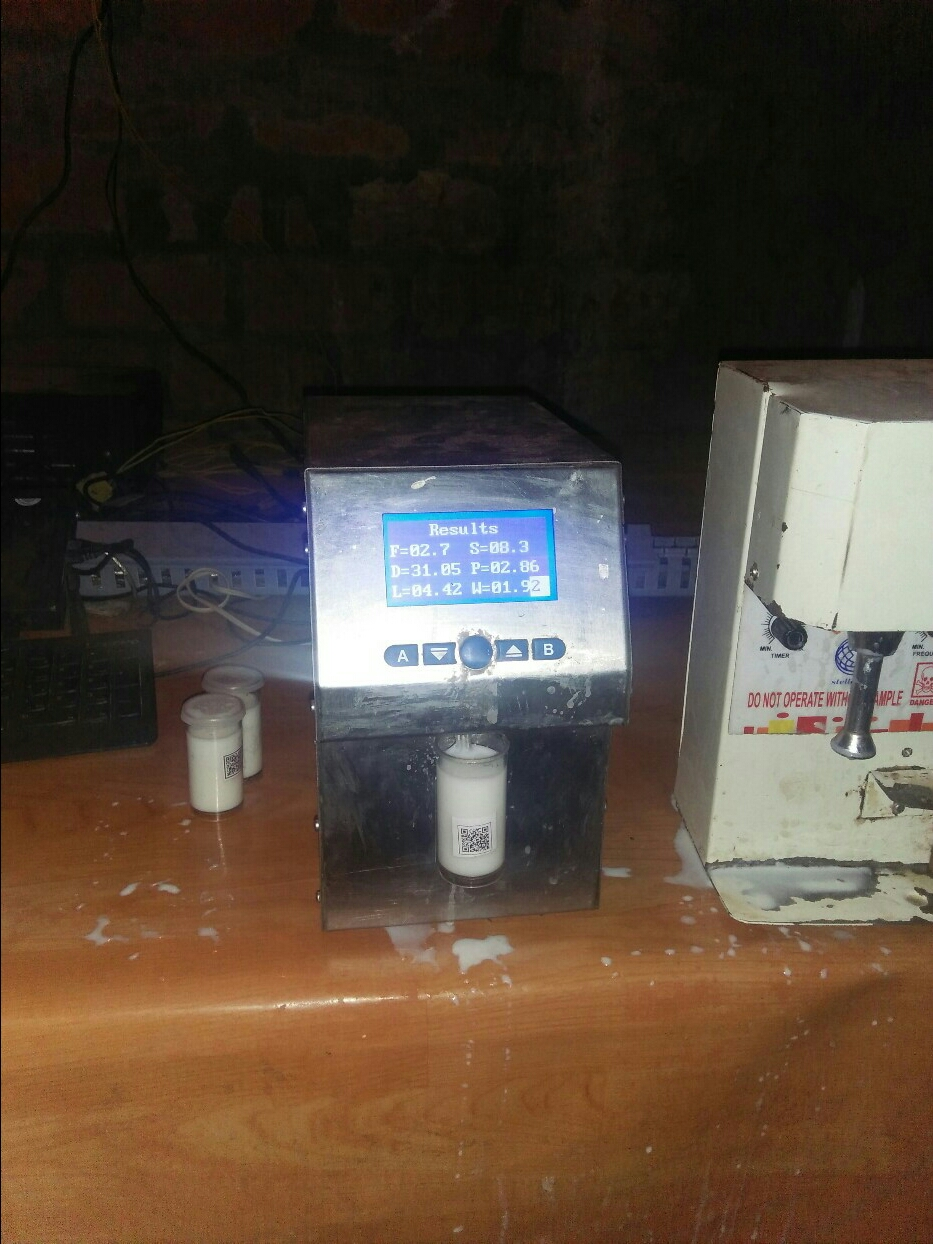lcd: (374, 503, 567, 616)
qr: (446, 812, 503, 863)
